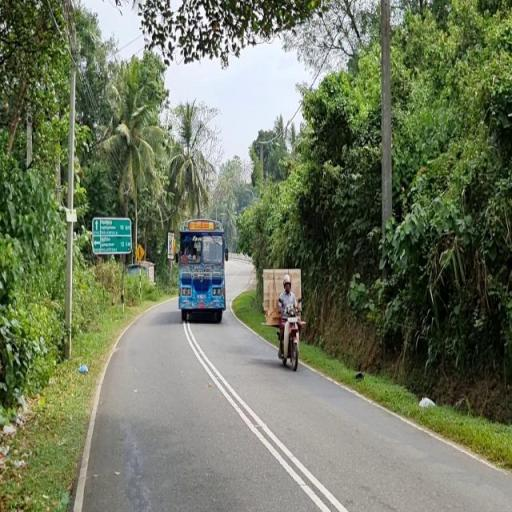double_white_line: (182, 322, 349, 510)
